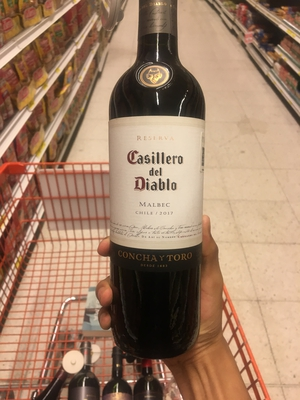casillero del diablo malbec: (86, 21, 239, 368)
